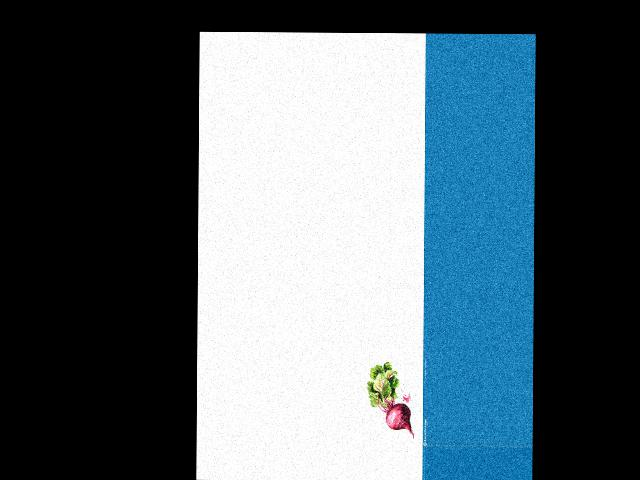beet: (366, 361, 415, 438)
